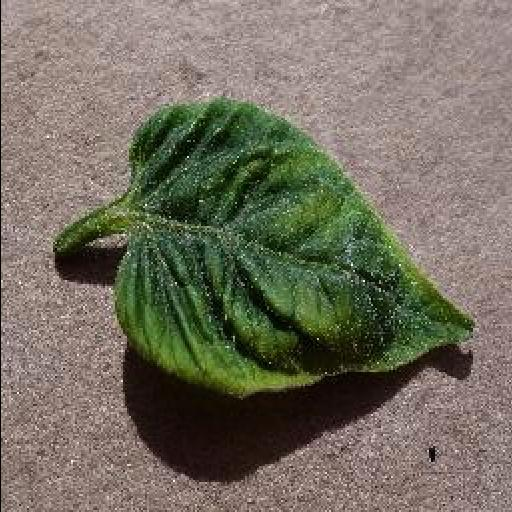disease_tomato: (114, 98, 478, 398)
